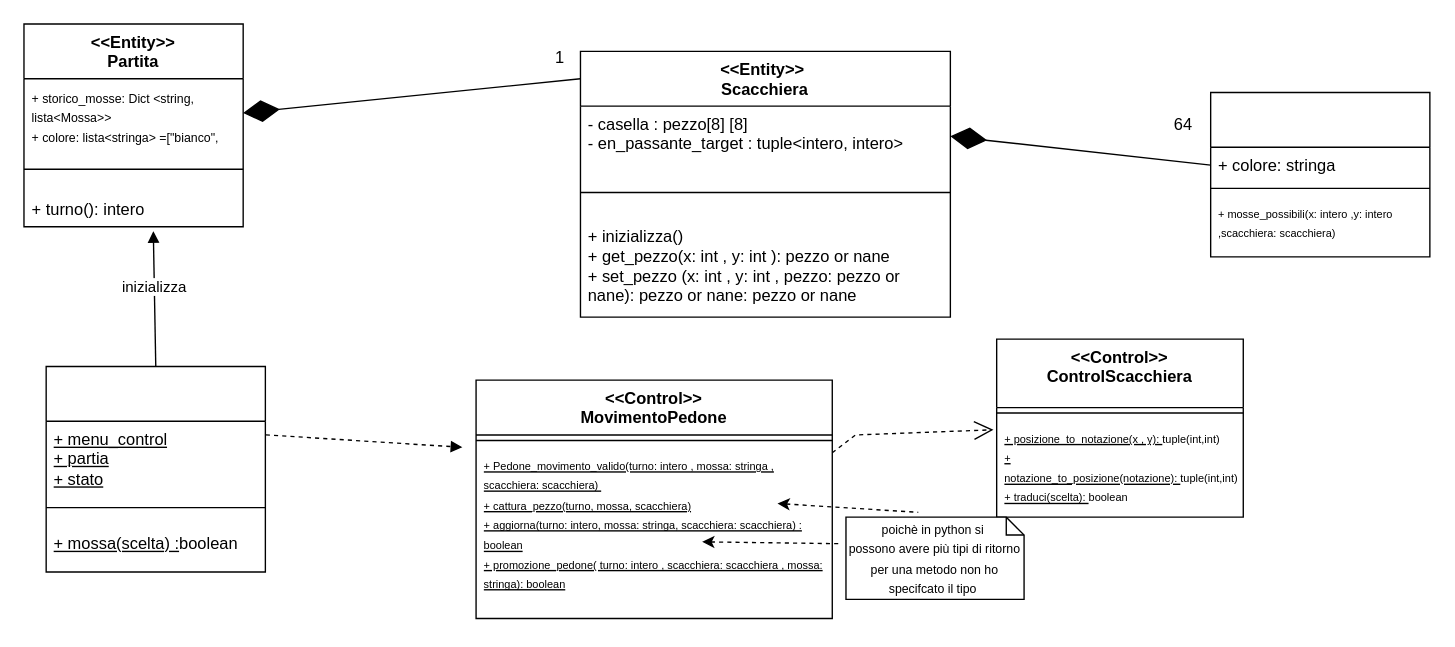
The diagram is 1455 pixels wide and 647 high, and some of its shapes have lost their labels. Each missing label, with the box of its shape:
<<Control>> ControlPartita: (45, 365, 265, 572)
<<Entity>> Pezzo{abstract}: (1209, 91, 1430, 257)
